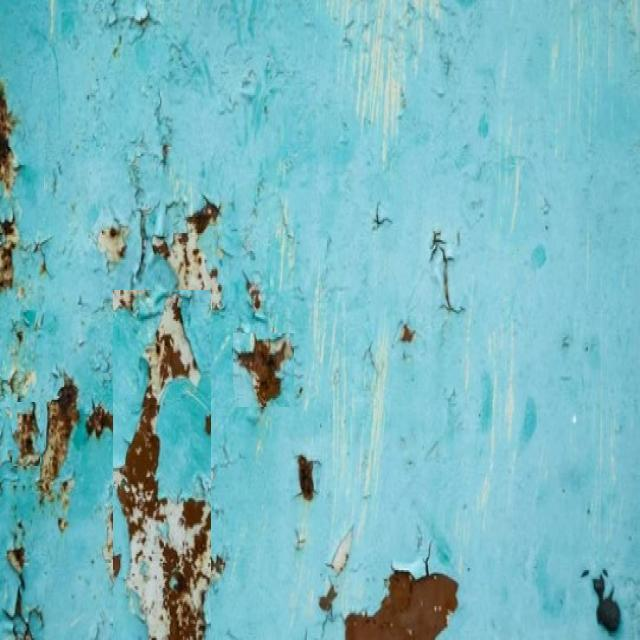Corrosion: (114, 295, 220, 640), (152, 200, 223, 310), (153, 200, 222, 310), (346, 573, 458, 640), (146, 295, 200, 400), (38, 376, 78, 496), (237, 339, 293, 408), (0, 550, 42, 640), (431, 230, 465, 314), (12, 404, 39, 468), (0, 83, 14, 190), (97, 225, 128, 264), (0, 220, 17, 290), (329, 529, 352, 574), (85, 404, 113, 440), (598, 595, 623, 634), (246, 277, 264, 320), (112, 290, 144, 312), (300, 456, 315, 502), (373, 202, 393, 230), (319, 587, 338, 614), (6, 550, 23, 576), (401, 324, 416, 342)
